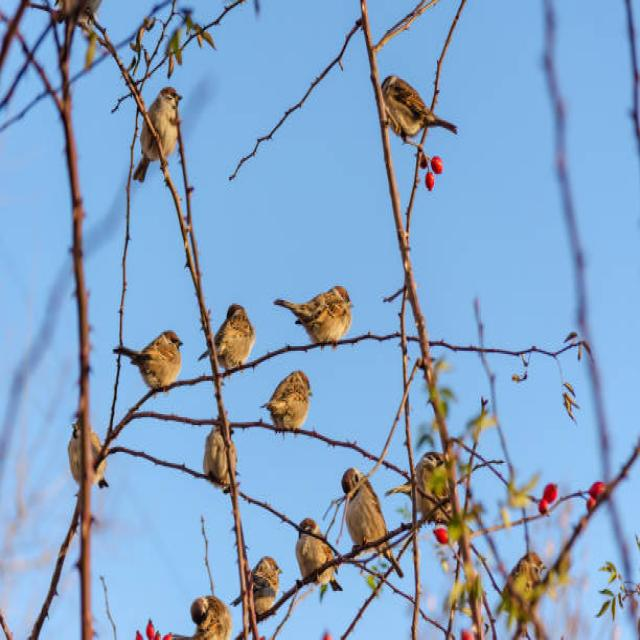bird: (328, 463, 407, 589), (367, 59, 465, 146), (270, 281, 358, 351), (110, 328, 192, 403), (289, 520, 353, 600), (134, 87, 186, 178), (257, 366, 315, 432), (210, 302, 259, 378), (185, 592, 241, 636), (250, 554, 286, 614)
